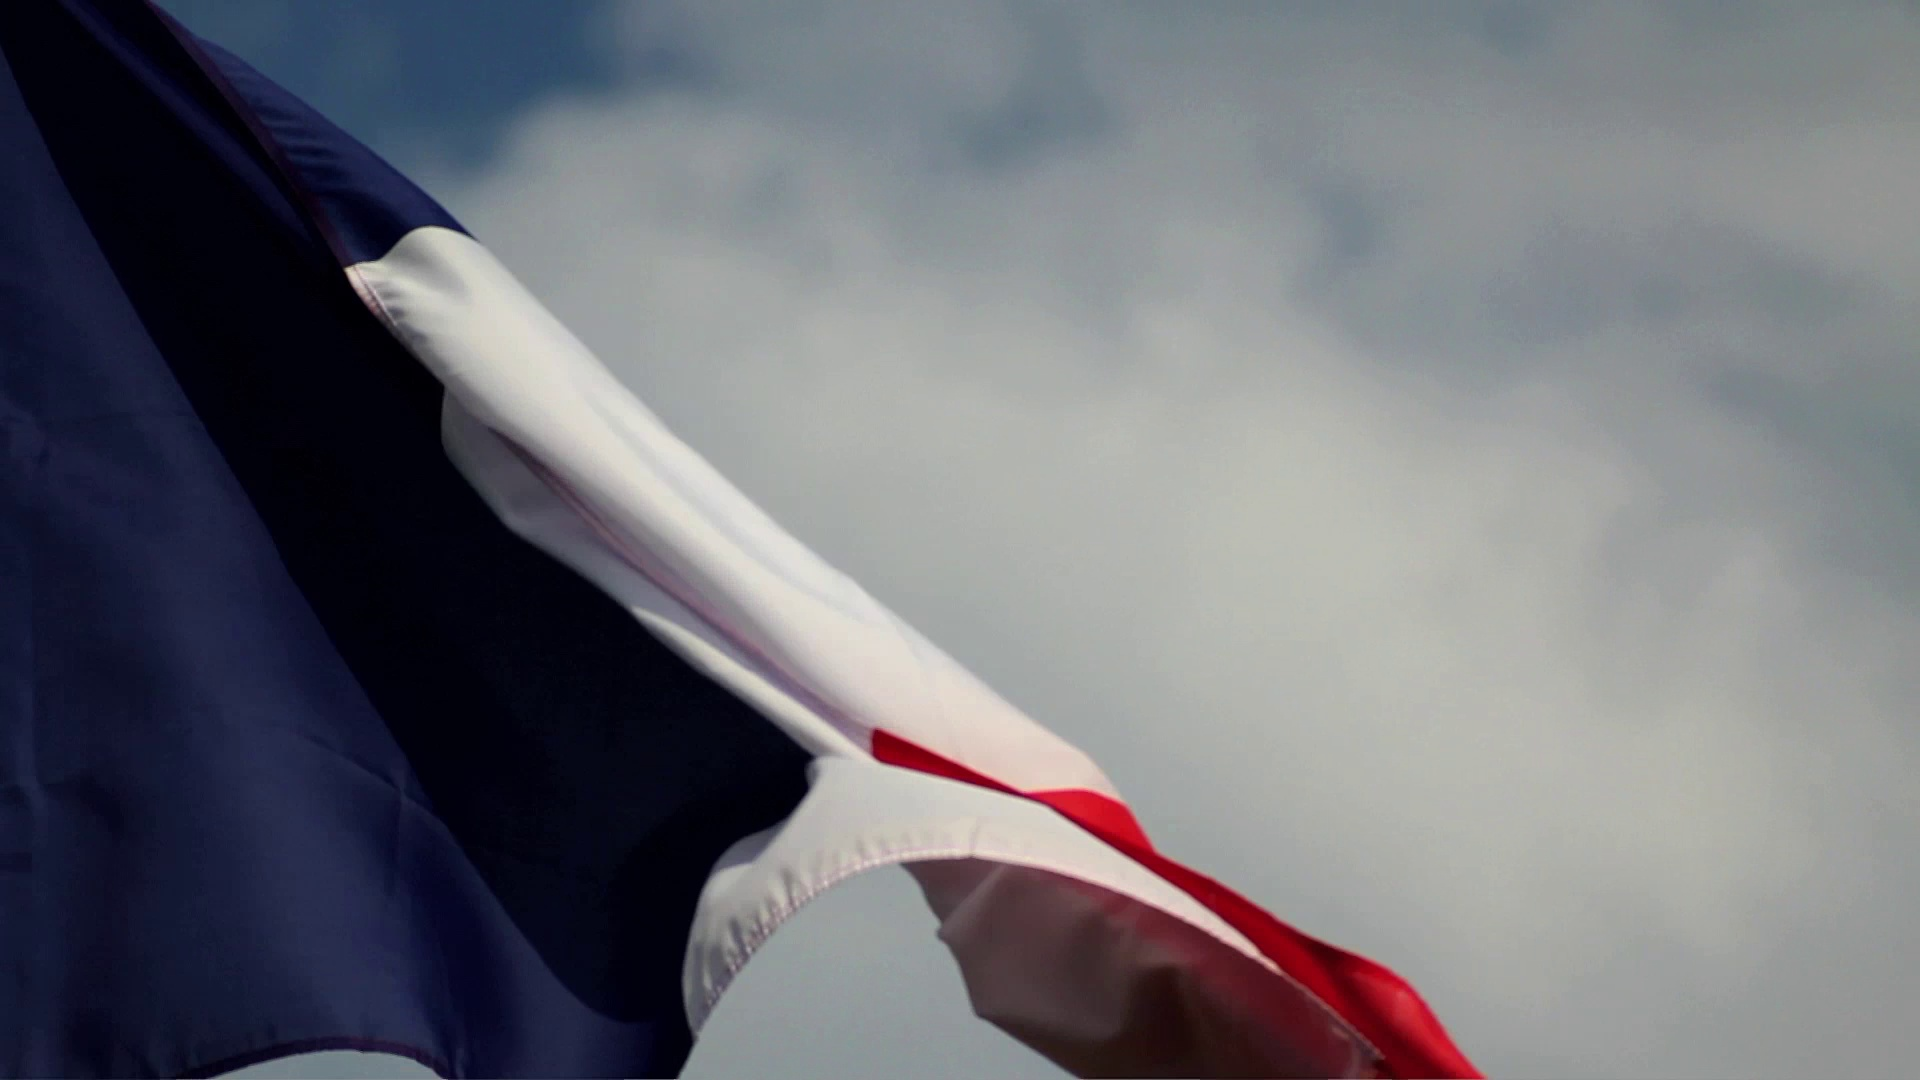French Flag: (1, 1, 1466, 1080)
